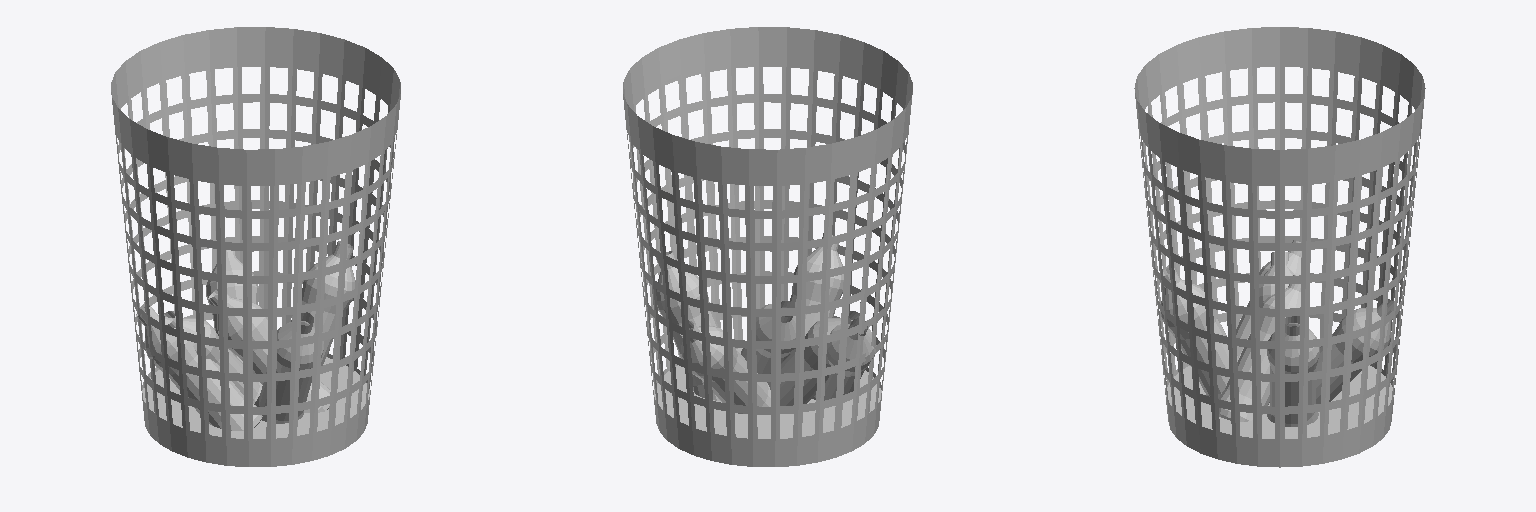
The model's file is DustbinWithCan_000038.obj.
3 renders of one model, left to right at view 1: azimuth 30°, elevation 25°; view 2: azimuth 150°, elevation 25°; view 3: azimuth 270°, elevation 25°, orthographic.
Visible parts, largest first — view 1: Cylinder, Plane.005, Plane.001, Plane.004, Plane.003, Plane.006, Plane.002; view 2: Cylinder, Plane.002, Plane.003, Plane.006, Plane.001, Plane.005, Plane.004; view 3: Cylinder, Plane.001, Plane.004, Plane.003, Plane.002, Plane.005.
Boxes of the visible parts, box(x1,y1,x2,y2) form: Cylinder: box(111, 27, 400, 466); Plane.005: box(136, 305, 262, 430); Plane.001: box(254, 312, 323, 423); Plane.004: box(208, 289, 330, 412); Plane.003: box(291, 241, 355, 365); Plane.006: box(164, 311, 262, 403); Plane.002: box(206, 250, 258, 362); Cylinder: box(623, 27, 912, 466); Plane.002: box(680, 321, 770, 413); Plane.003: box(656, 251, 719, 400); Plane.006: box(767, 311, 859, 405); Plane.001: box(790, 233, 843, 335); Plane.005: box(812, 318, 876, 400); Plane.004: box(741, 301, 795, 373); Cylinder: box(1134, 27, 1425, 467); Plane.001: box(1161, 268, 1238, 397); Plane.004: box(1218, 275, 1300, 421); Plane.003: box(1267, 316, 1319, 426); Plane.002: box(1316, 299, 1398, 403); Plane.005: box(1236, 240, 1301, 357).
Size of the model in its own units: 2.6 by 3.31 by 2.6.